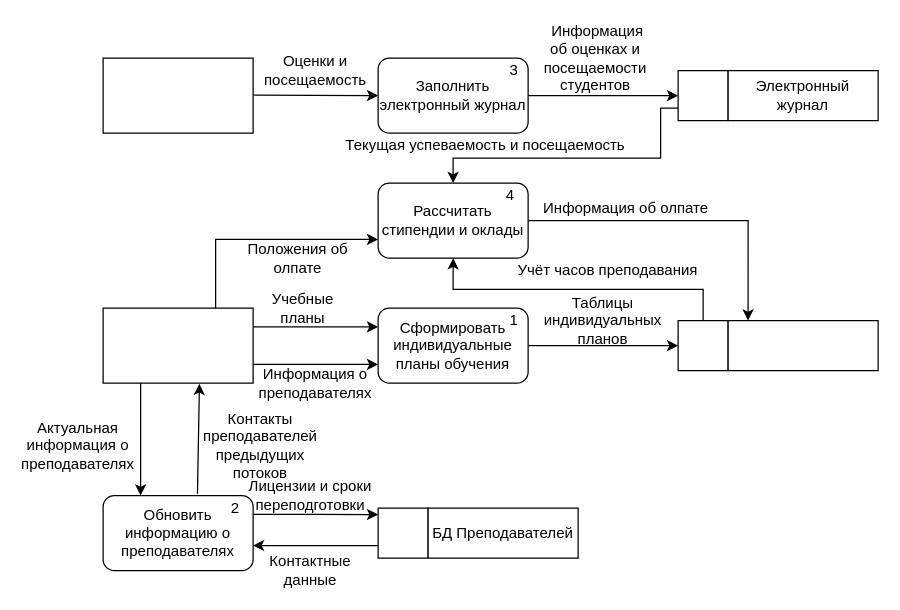
This 900x610 diagram has some shape labels left out. Each missing label, with the centre of its shape:
"Администратор / Руководитель" goes at (x=177, y=345).
"БД ведомостей и планов" goes at (x=802, y=345).
"Преподаватель" goes at (x=177, y=95).
